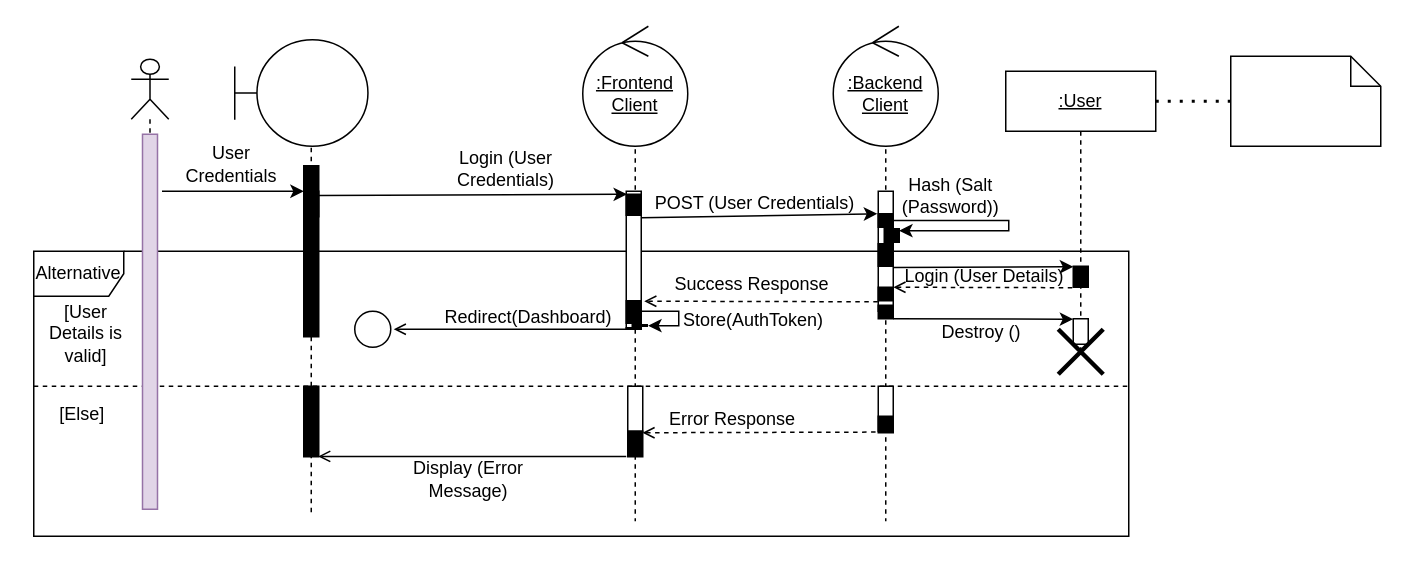
This 1407x563 diagram has some shape labels left out. Here are the shapes that lost their labels. From the top down, the centre of each, then its label:
At (300,92): ":LoginUI".
At (1305,100): "Instance of User Table in Database".
At (149,283): "User".
